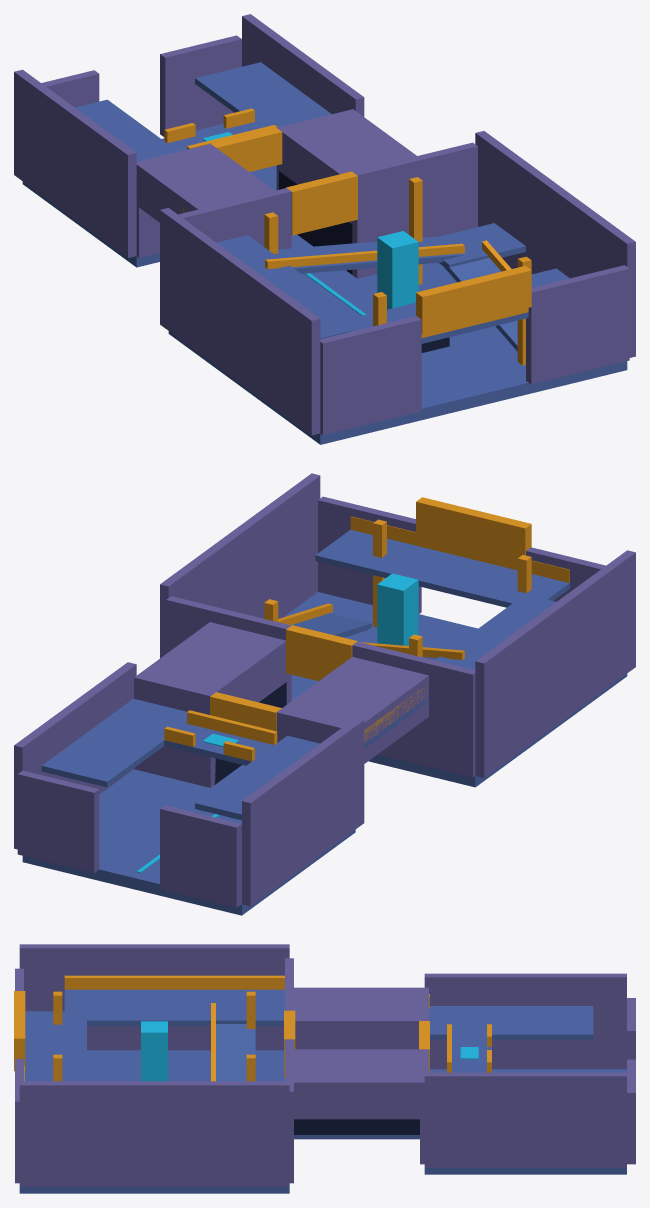
File: stage4_astral_keep.obj
3 renders of one model, top to bottom at view 1: azimuth 30°, elevation 25°; view 2: azimuth 150°, elevation 25°; view 3: azimuth 270°, elevation 25°, orthographic. The views are drawn at different scales.
Parts seen in each view (by area): view 1: observatory_wall_left, arrival_wall_left, observatory_wall_right, observatory_floor, observatory_back_right, observatory_back_left, observatory_front_right, passage_cap_left, passage_cap_right, arrival_front_right, observatory_back_crown, arrival_balcony_right (+19 smaller); view 2: observatory_wall_left, arrival_wall_left, observatory_wall_right, arrival_floor, upper_back_balcony, passage_cap_left, observatory_front_left, passage_cap_right, arrival_front_right, arrival_front_left, arrival_balcony_right, arrival_wall_right (+19 smaller); view 3: observatory_wall_right, arrival_wall_right, observatory_wall_left, arrival_wall_left, passage_cap_right, passage_cap_left, upper_west_balcony, observatory_floor, arrival_balcony_left, upper_back_balcony, west_balcony_rail, north_ramp (+15 smaller).
Boxes of the visible parts, left/top/right/bottom form: observatory_wall_left: left=160, top=208, right=320, bottom=435; arrival_wall_left: left=14, top=69, right=136, bottom=257; observatory_wall_right: left=475, top=131, right=635, bottom=357; observatory_floor: left=168, top=262, right=627, bottom=444; observatory_back_right: left=526, top=265, right=629, bottom=384; observatory_back_left: left=320, top=316, right=421, bottom=435; observatory_front_right: left=352, top=142, right=477, bottom=278; passage_cap_left: left=137, top=147, right=274, bottom=222; passage_cap_right: left=279, top=112, right=416, bottom=223; arrival_front_right: left=160, top=35, right=241, bottom=136; observatory_back_crown: left=416, top=266, right=531, bottom=333; arrival_balcony_right: left=195, top=62, right=331, bottom=127; observatory_wall_left: left=475, top=550, right=635, bottom=777; arrival_wall_left: left=242, top=718, right=364, bottom=906; observatory_wall_right: left=160, top=473, right=320, bottom=658; arrival_floor: left=22, top=769, right=355, bottom=915; upper_back_balcony: left=315, top=529, right=569, bottom=608; passage_cap_left: left=282, top=657, right=428, bottom=763; observatory_front_left: left=352, top=641, right=475, bottom=777; passage_cap_right: left=137, top=622, right=286, bottom=702; arrival_front_right: left=17, top=770, right=99, bottom=872; arrival_front_left: left=160, top=805, right=241, bottom=907; arrival_balcony_right: left=41, top=698, right=186, bottom=787; arrival_wall_right: left=14, top=662, right=136, bottom=849; observatory_wall_right: left=19, top=1081, right=289, bottom=1186; arrival_wall_right: left=424, top=1072, right=626, bottom=1167; observatory_wall_left: left=19, top=944, right=289, bottom=1050; arrival_wall_left: left=424, top=973, right=626, bottom=1069; passage_cap_right: left=294, top=1049, right=424, bottom=1119; passage_cap_left: left=294, top=987, right=424, bottom=1049; upper_west_balcony: left=64, top=989, right=284, bottom=1025; observatory_floor: left=19, top=1050, right=289, bottom=1193; arrival_balcony_left: left=430, top=1006, right=593, bottom=1039; upper_back_balcony: left=24, top=1011, right=86, bottom=1081; west_balcony_rail: left=64, top=975, right=284, bottom=989; north_ramp: left=216, top=1024, right=255, bottom=1081.
Size of the model in its own units: 29.6 by 11 by 55.3.
